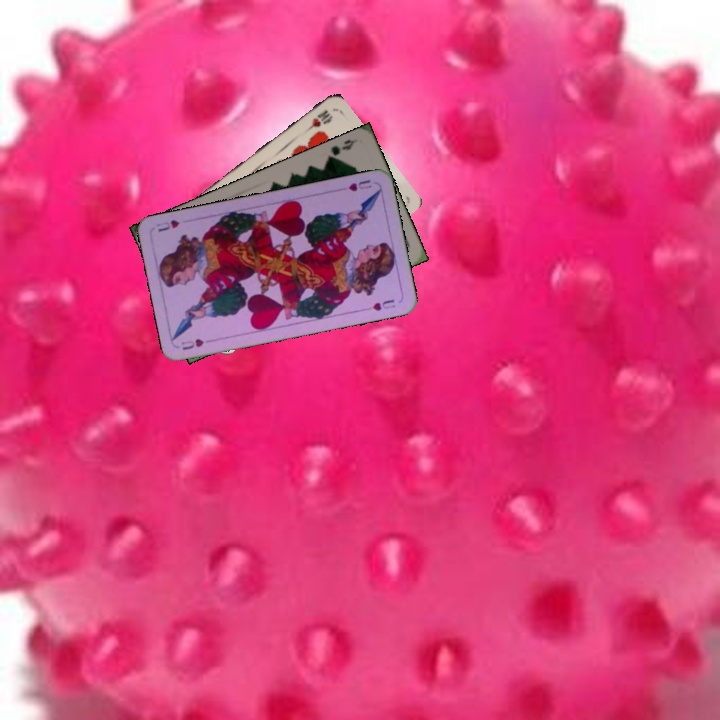G9: (323, 135, 359, 164)
H10: (300, 106, 334, 136)
HU: (177, 334, 217, 353), (345, 175, 374, 194)
